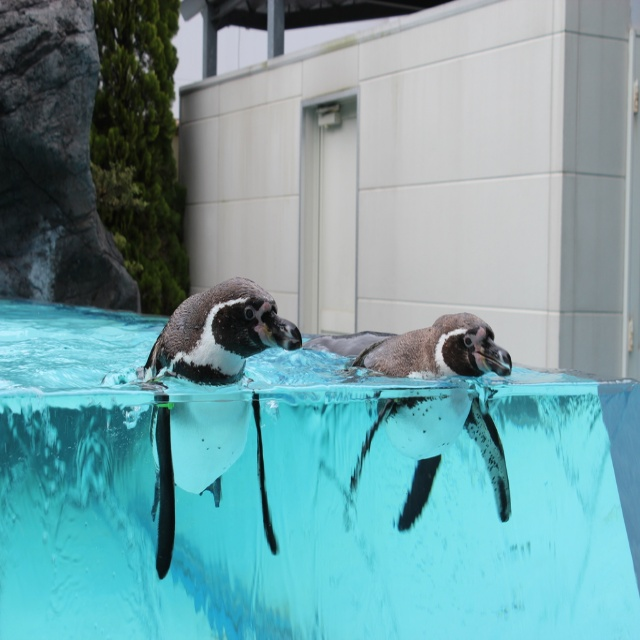Penguin: (137, 277, 301, 574), (304, 310, 511, 540)
